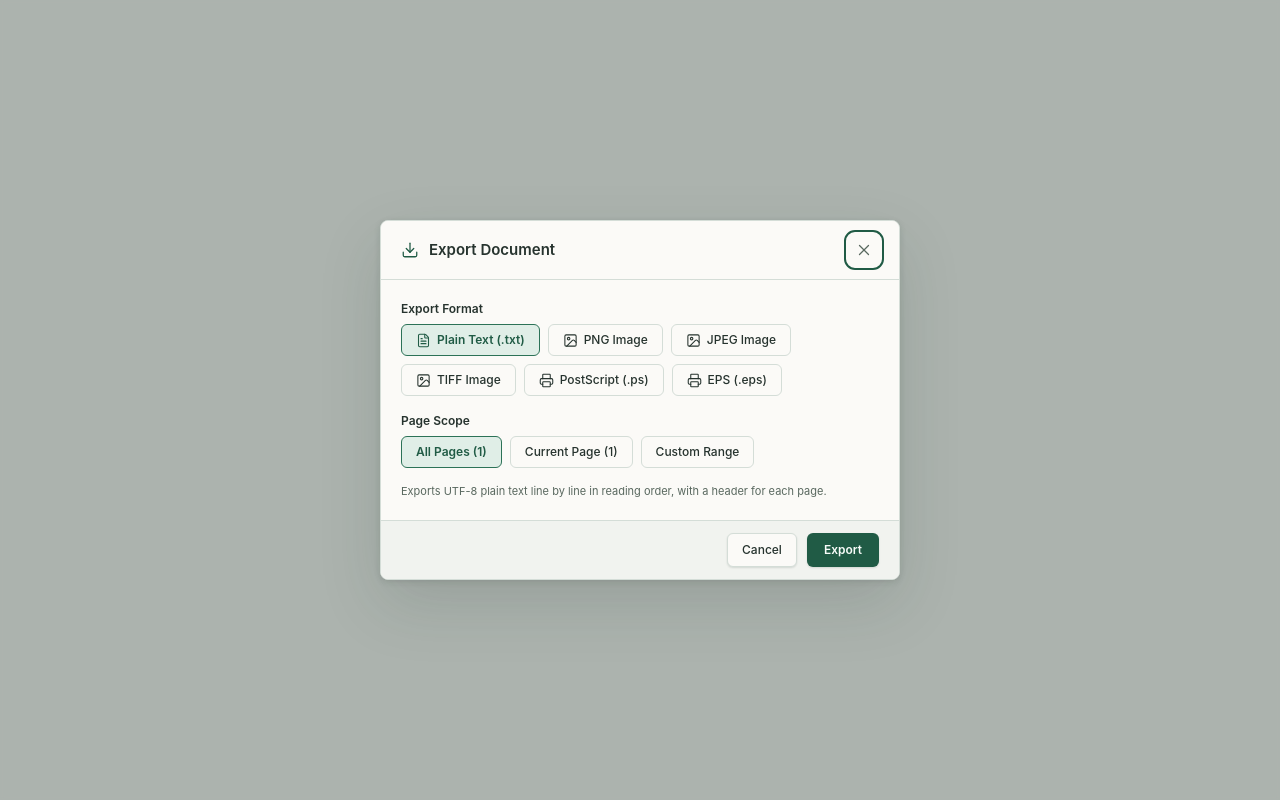
ExportDialog Hardening (P6.5) › displays DPI and quality controls when an image format is selected
Note: Switch to PNG
Step 1. Click the button "PNG Image" → (605, 340), box [548,324,663,356]
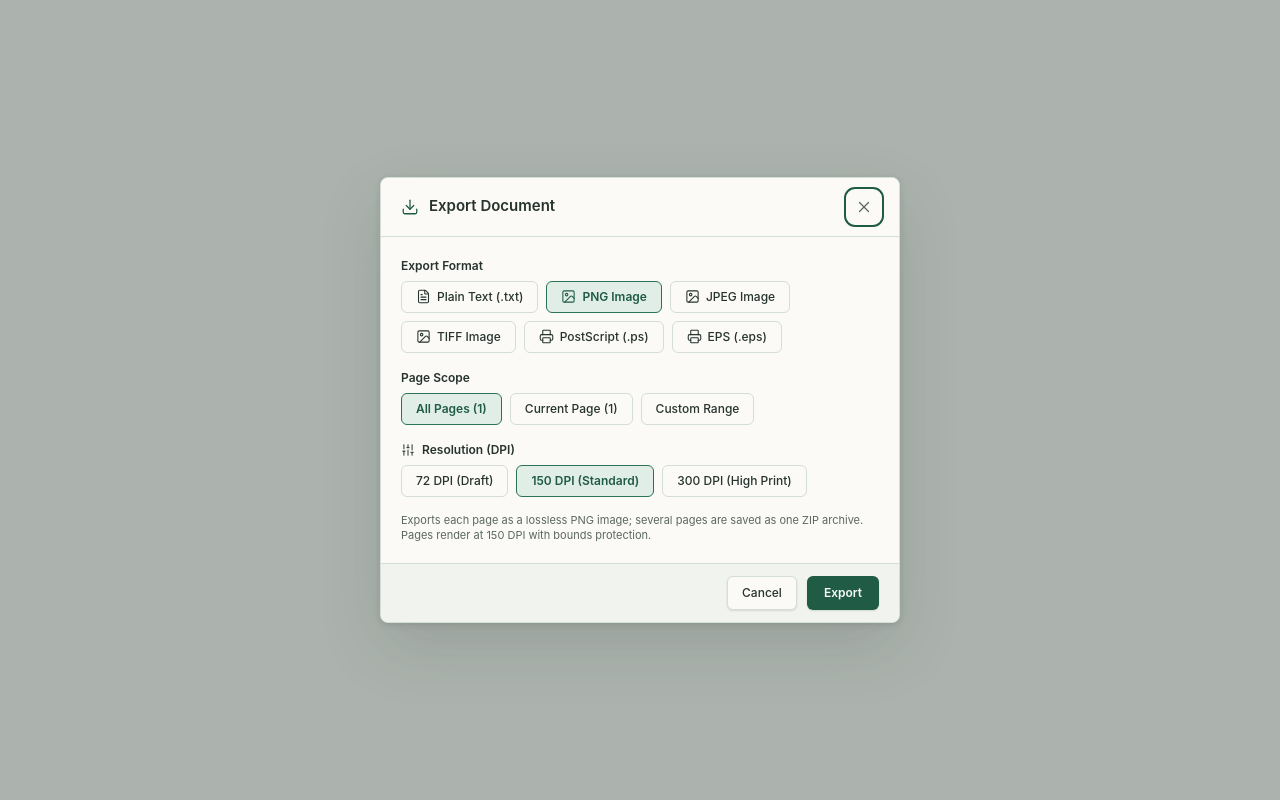
Result: the button "72 DPI (Draft)" is shown at [401,465,508,497]
Result: the button "150 DPI (Standard)" is shown at [516,465,654,497]
Result: the button "300 DPI (High Print)" is shown at [662,465,807,497]
Note: Switch to JPEG to verify quality slider appears
Step 2. Click the button "JPEG Image" → (730, 297), box [670,281,790,313]
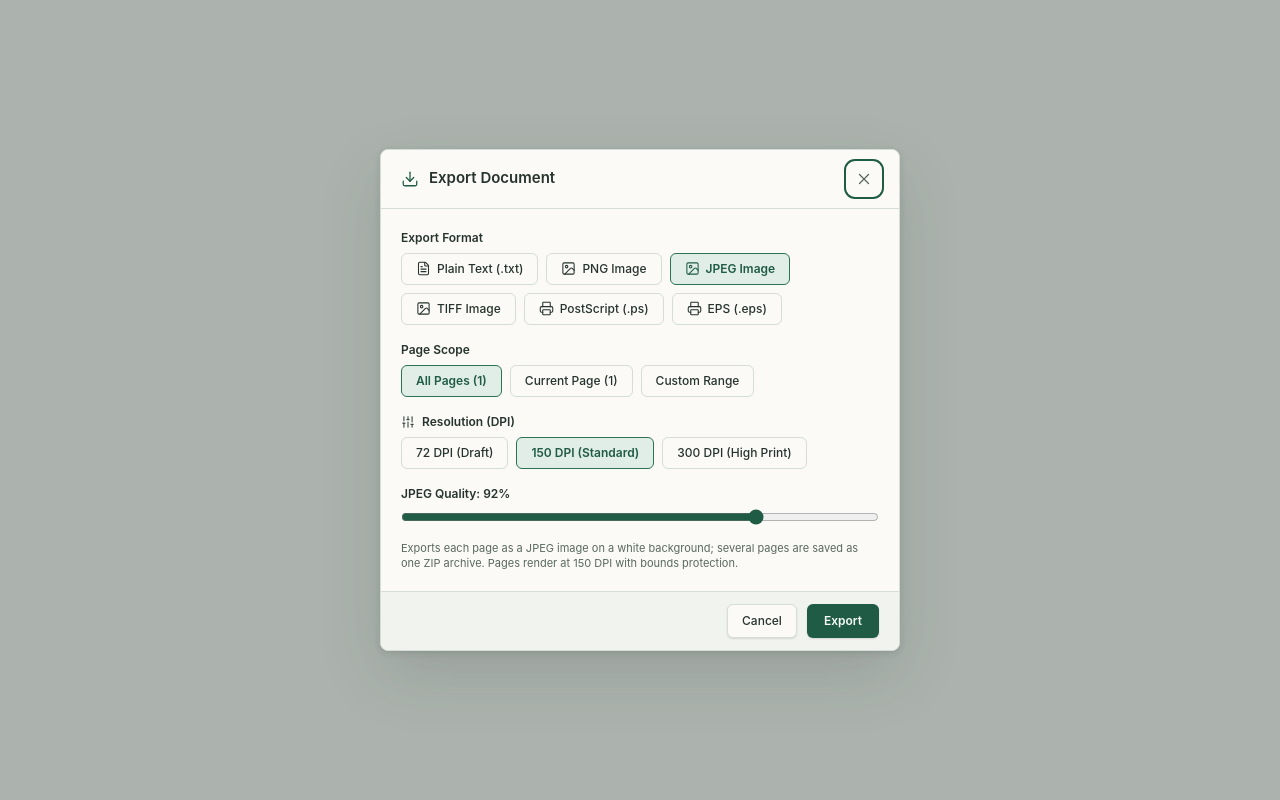
Result: the text "JPEG Quality: 92%" is shown at [401,486,510,501]
